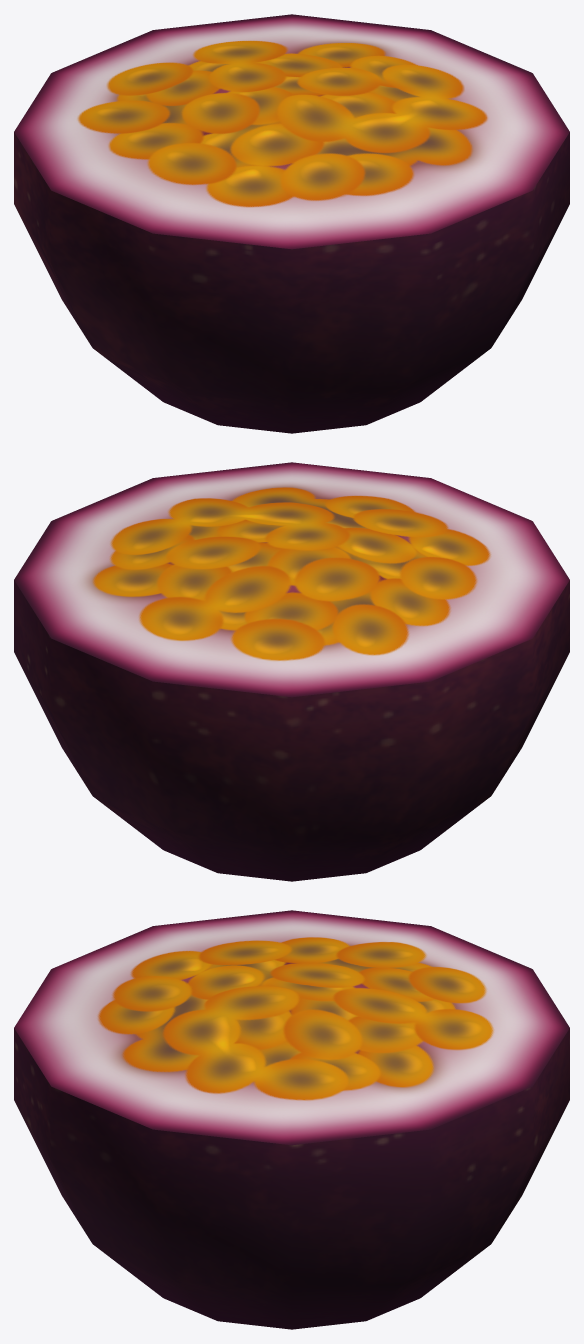
Rendered from PassionFruit_Purple_Half.fbx.
3 views of the same model, one above another, from view 1: azimuth 30°, elevation 25°; view 2: azimuth 150°, elevation 25°; view 3: azimuth 270°, elevation 25° (orthographic).
Parts seen in each view (by area): view 1: PassionFruit_Purple_Half; view 2: PassionFruit_Purple_Half; view 3: PassionFruit_Purple_Half.
Boxes of the visible parts, x1=… form: PassionFruit_Purple_Half: x1=14, y1=14, x2=569, y2=433; PassionFruit_Purple_Half: x1=14, y1=462, x2=569, y2=881; PassionFruit_Purple_Half: x1=14, y1=910, x2=569, y2=1329.
Bounding box in the file's own units: 31.03 × 19.19 × 31.03.
Materials: 1 (1 with a texture image).
